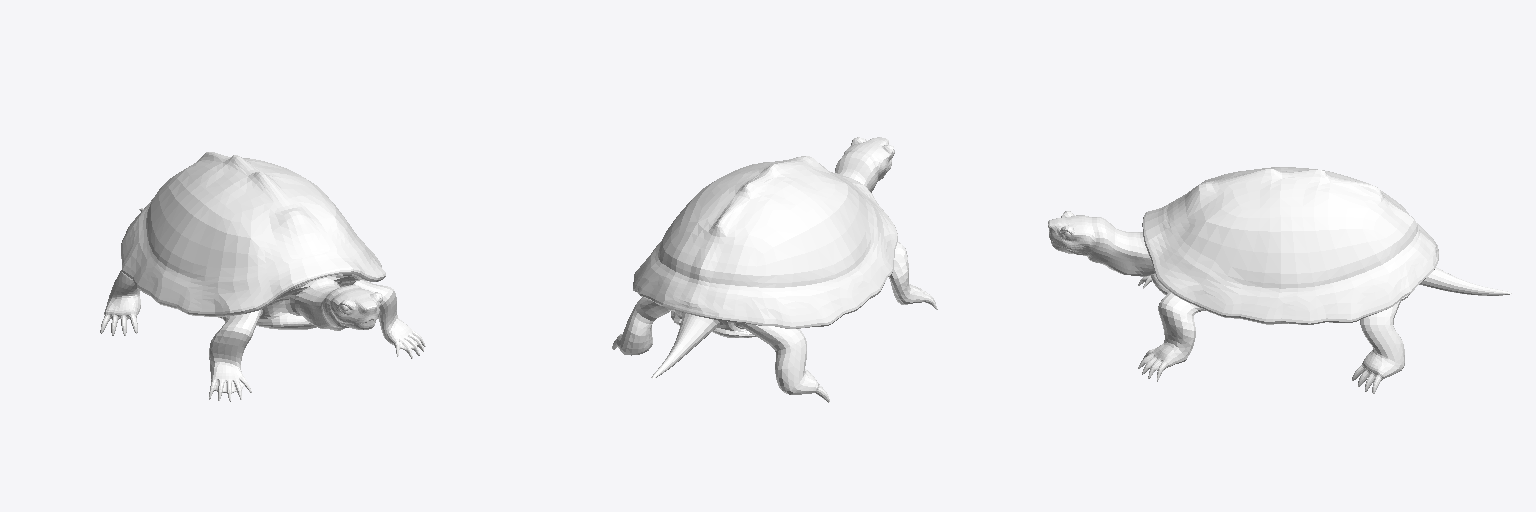
The model's file is turtle.obj.
3 views of the same model, side by side, from view 1: azimuth 30°, elevation 25°; view 2: azimuth 150°, elevation 25°; view 3: azimuth 270°, elevation 25° (orthographic).
Visible parts, largest first — view 1: 13103_pearlturtle_v1_l2; view 2: 13103_pearlturtle_v1_l2; view 3: 13103_pearlturtle_v1_l2.
Part boxes in pixels (x1,y1,x2,y2): 13103_pearlturtle_v1_l2: (100, 152, 425, 401); 13103_pearlturtle_v1_l2: (612, 137, 937, 402); 13103_pearlturtle_v1_l2: (1048, 167, 1511, 393).
Bounding box in the file's own units: 1.53 × 1.17 × 2.83.